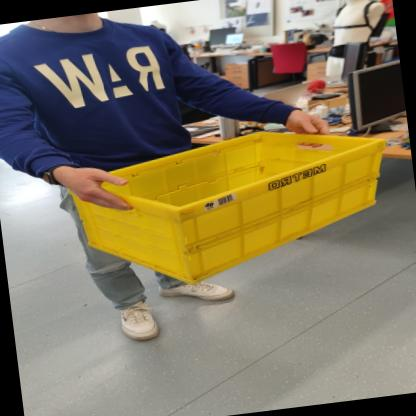box: (56, 109, 404, 296)
